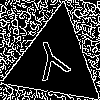Y: (30, 36, 75, 91)
